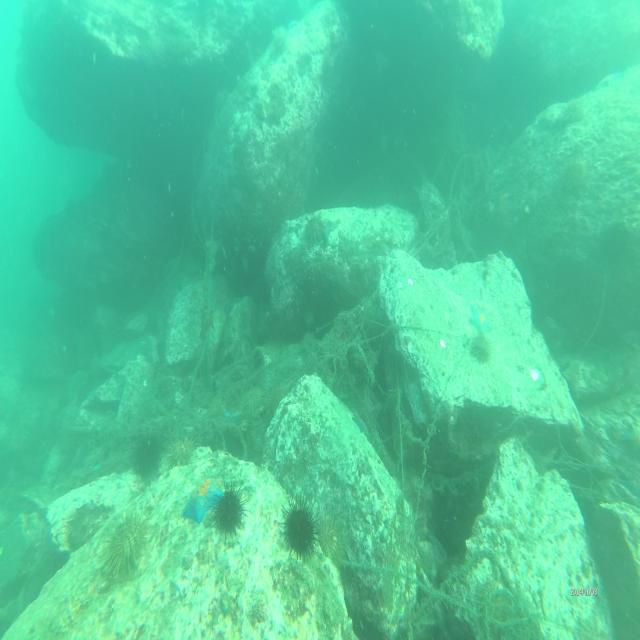echinus: (106, 519, 149, 583), (284, 504, 316, 557), (216, 487, 245, 532), (134, 431, 162, 476), (168, 437, 193, 472), (305, 211, 326, 247), (472, 333, 489, 363)
starfish: (186, 478, 224, 524), (468, 303, 492, 335)
